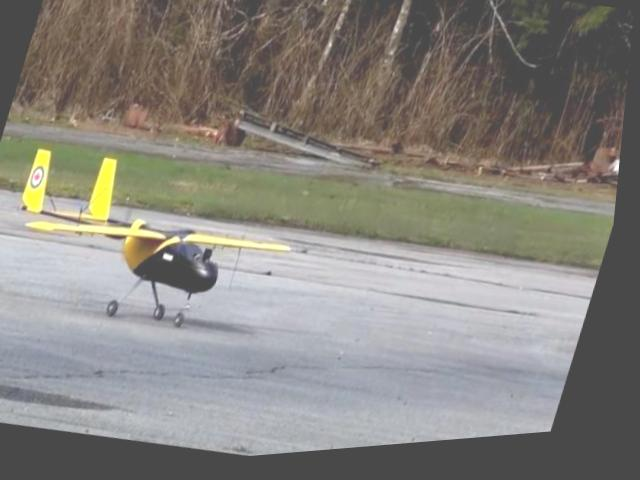iha: (0, 116, 329, 362)
